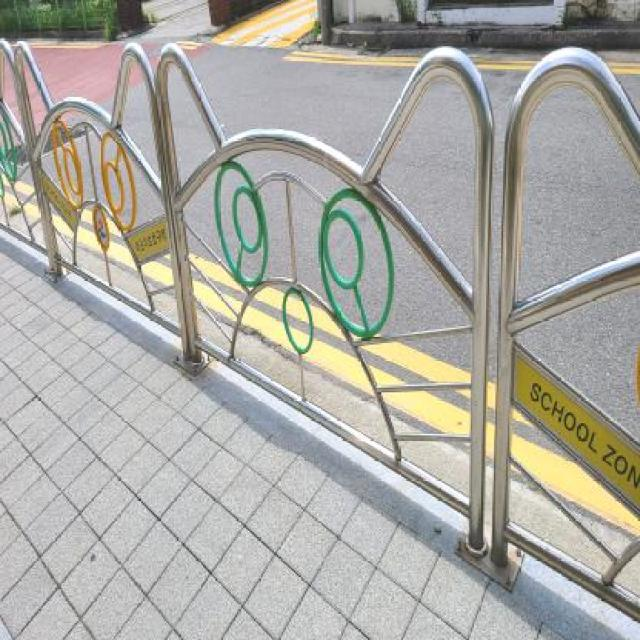fence: (141, 44, 640, 618), (0, 25, 221, 394)
